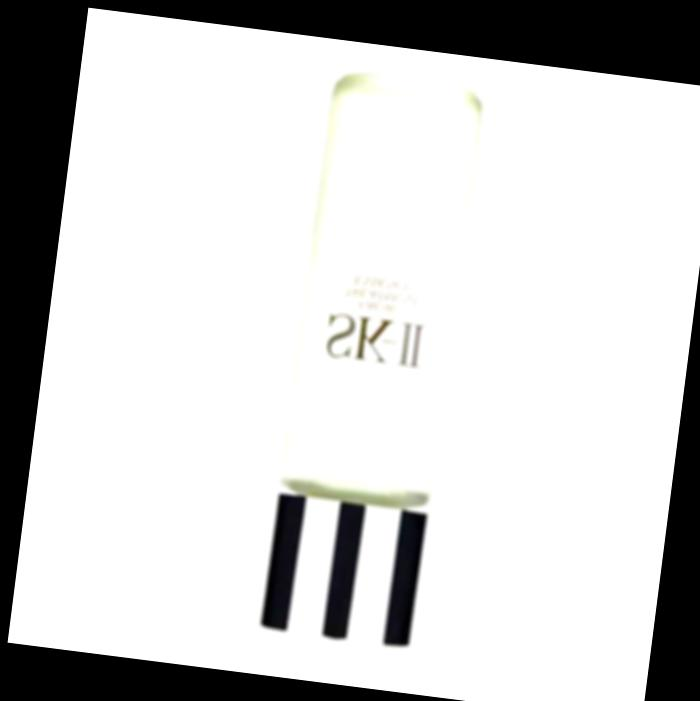cosmetic: (258, 65, 491, 646)
